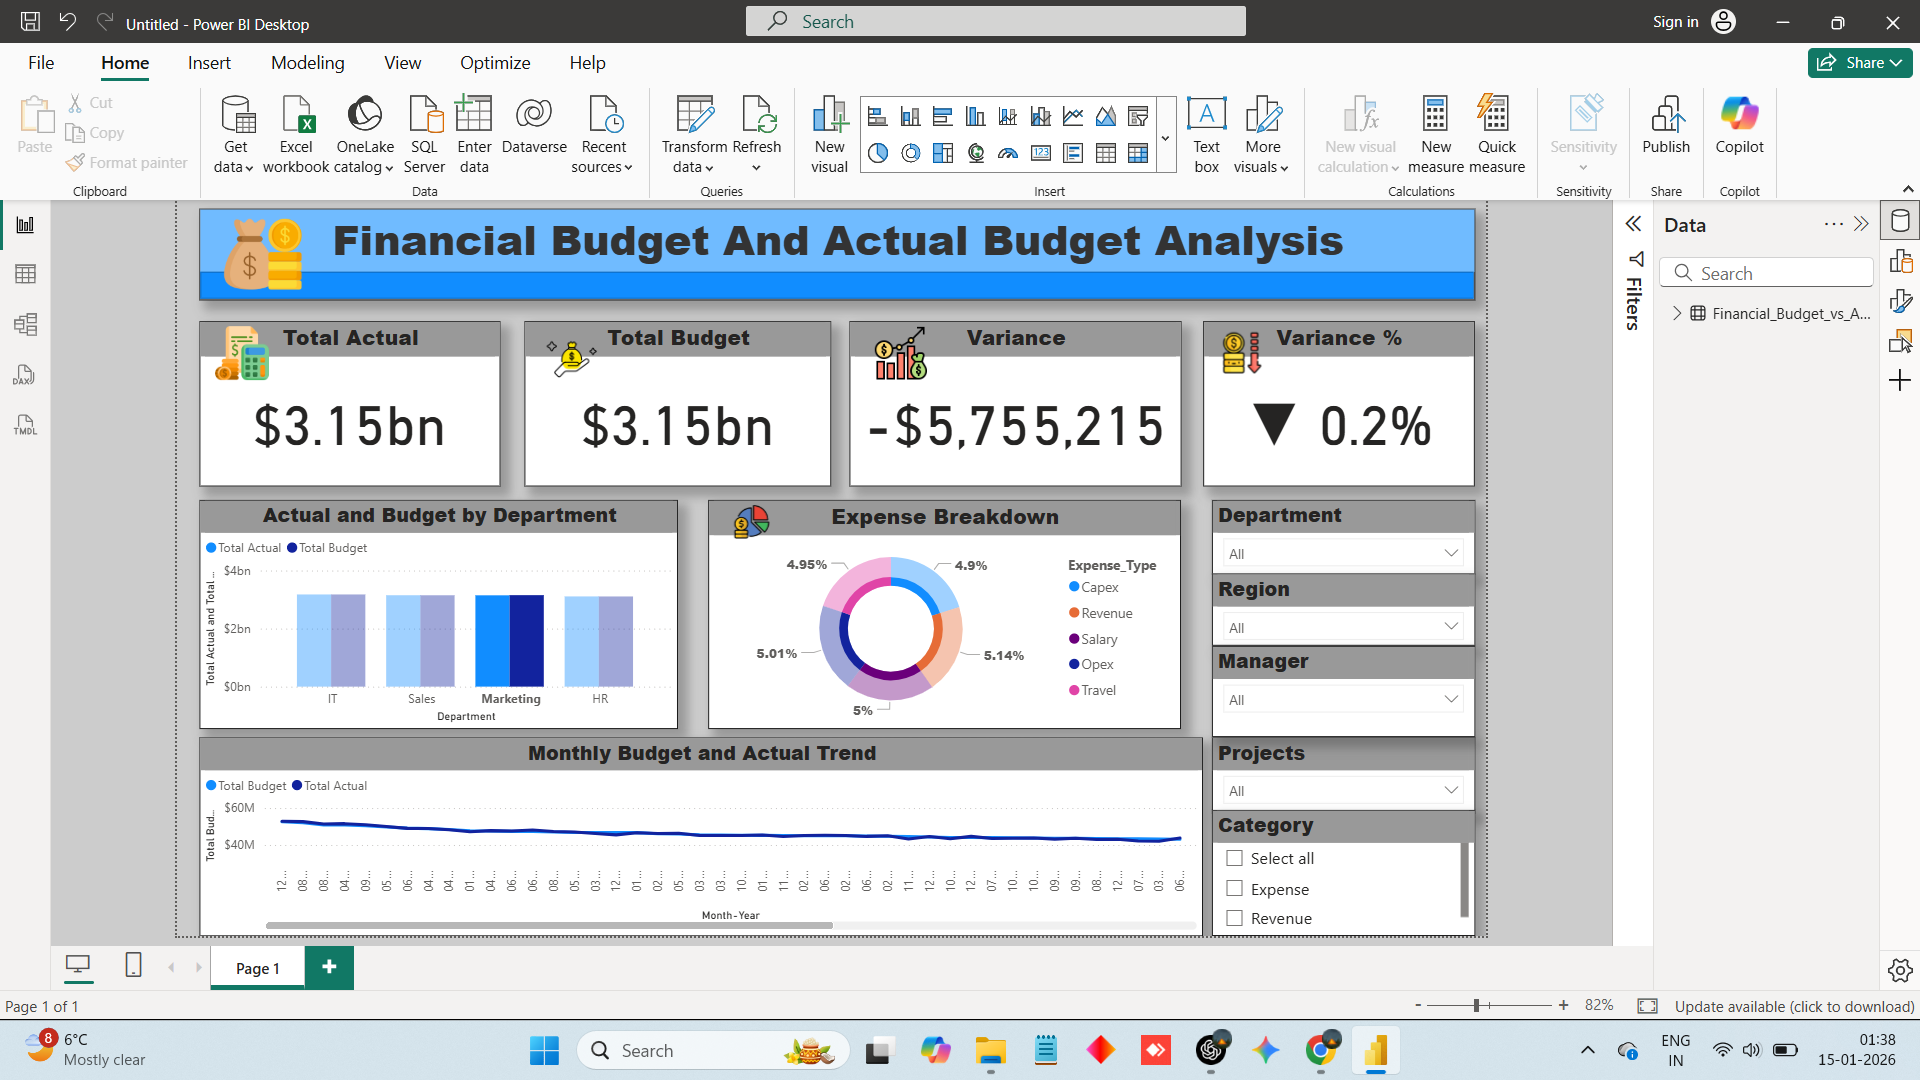

This screenshot's page, from the dashboard's own definition file:
{"tool":"powerbi","page":{"name":"Page 1","canvas":[1280,720],"ordinal":0},"visuals":[{"type":"card","title":"Total Actual","fields":{"Values":["Financial_Budget_vs_Actual.Total Actual"]},"box":[21.6,118.3,294.3,161.6],"z":0},{"type":"card","title":"Total Budget","fields":{"Values":["Financial_Budget_vs_Actual.Total Budget"]},"box":[340.5,118.3,300.1,161.6],"z":1000},{"type":"card","title":"Variance %","fields":{"Values":["Financial_Budget_vs_Actual.% Variance"]},"box":[1004.2,118.3,265.5,161.6],"z":2000},{"type":"card","title":"Variance","fields":{"Values":["Financial_Budget_vs_Actual.Variance Measure"]},"box":[657.9,118.3,324.6,161.6],"z":3000},{"type":"shape","title":"Financial Budget And Actual Budget Analysis","box":[21.6,8.7,1248,89.5],"z":4000},{"type":"clusteredColumnChart","title":"Actual and Budget by Department","fields":{"Category":["Financial_Budget_vs_Actual.Department"],"Y":["Financial_Budget_vs_Actual.Total Actual","Financial_Budget_vs_Actual.Total Budget"]},"box":[22,293.5,468.3,223.8],"z":5000},{"type":"donutChart","title":"Expense Breakdown","fields":{"Category":["Financial_Budget_vs_Actual.Expense_Type"],"Y":["Financial_Budget_vs_Actual.Total Actual"]},"box":[519.7,293.5,462.2,223.8],"z":6000},{"type":"lineChart","title":"Monthly Budget and Actual Trend","fields":{"Category":["Financial_Budget_vs_Actual.Month-Year"],"Y":["Financial_Budget_vs_Actual.Total Budget","Financial_Budget_vs_Actual.Total Actual"]},"box":[22,525.8,981.9,194.4],"z":7000},{"type":"slicer","title":"Department","fields":{"Values":["Financial_Budget_vs_Actual.Department"]},"box":[1012.9,293.5,257.3,72.5],"z":8000},{"type":"slicer","title":"Region","fields":{"Values":["Financial_Budget_vs_Actual.Region"]},"box":[1012.9,366,257.3,70.7],"z":9000},{"type":"slicer","title":"Projects","fields":{"Values":["Financial_Budget_vs_Actual.Project"]},"box":[1012.9,525.5,257.3,74.3],"z":10000},{"type":"slicer","title":"Manager","fields":{"Values":["Financial_Budget_vs_Actual.Manager"]},"box":[1012.9,436.7,257.3,88.8],"z":11000},{"type":"slicer","title":"Category","fields":{"Values":["Financial_Budget_vs_Actual.Category"]},"box":[1012.9,596.2,257.3,123.2],"z":13000},{"type":"image","box":[22,8.6,124.7,89.3],"z":13001},{"type":"image","box":[539.3,280,47.7,69.7],"z":13002},{"type":"image","box":[22,118.6,83.2,62.4],"z":13003},{"type":"image","box":[1012.5,124.7,59.9,50.1],"z":13004},{"type":"image","box":[673.8,118.6,68.5,62.4],"z":13005},{"type":"image","box":[352.2,118.6,68.5,74.6],"z":13006}]}

Visuals, with their boxes on the page's 1280x720 design canvas (x1, y1, x2, y2). These are canvas units, not pixel positions in the 1920x1080 screenshot, which may show the page scaled, cropped or inside an application window:
"Total Actual" card: [22, 118, 316, 280]
"Total Budget" card: [340, 118, 641, 280]
"Variance %" card: [1004, 118, 1270, 280]
"Variance" card: [658, 118, 982, 280]
"Financial Budget And Actual Budget Analysis" shape: [22, 9, 1270, 98]
"Actual and Budget by Department" clusteredColumnChart: [22, 294, 490, 517]
"Expense Breakdown" donutChart: [520, 294, 982, 517]
"Monthly Budget and Actual Trend" lineChart: [22, 526, 1004, 720]
"Department" slicer: [1013, 294, 1270, 366]
"Region" slicer: [1013, 366, 1270, 437]
"Projects" slicer: [1013, 526, 1270, 600]
"Manager" slicer: [1013, 437, 1270, 526]
"Category" slicer: [1013, 596, 1270, 719]
image: [22, 9, 147, 98]
image: [539, 280, 587, 350]
image: [22, 119, 105, 181]
image: [1012, 125, 1072, 175]
image: [674, 119, 742, 181]
image: [352, 119, 421, 193]
